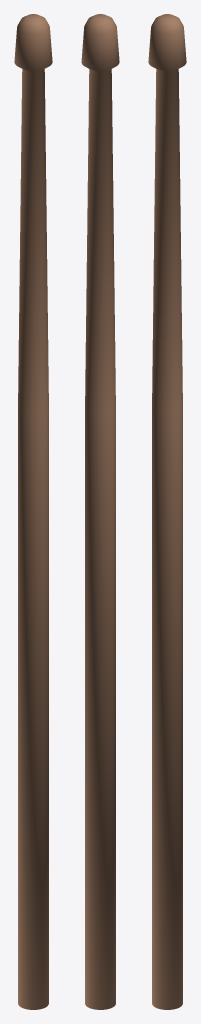
File: Drum Stick.fbx
3 views of the same model, side by side, from view 1: azimuth 90°, elevation 25°; view 2: azimuth 150°, elevation 25°; view 3: azimuth 270°, elevation 25° (orthographic).
Parts seen in each view (by area): view 1: Cylinder; view 2: Cylinder; view 3: Cylinder.
Boxes of the visible parts, x1,y1,x2,y2 form: Cylinder: (14,14,52,1009); Cylinder: (81,14,119,1009); Cylinder: (148,14,186,1009).
Size of the model in its own units: 1.52 by 43.2 by 1.52.
